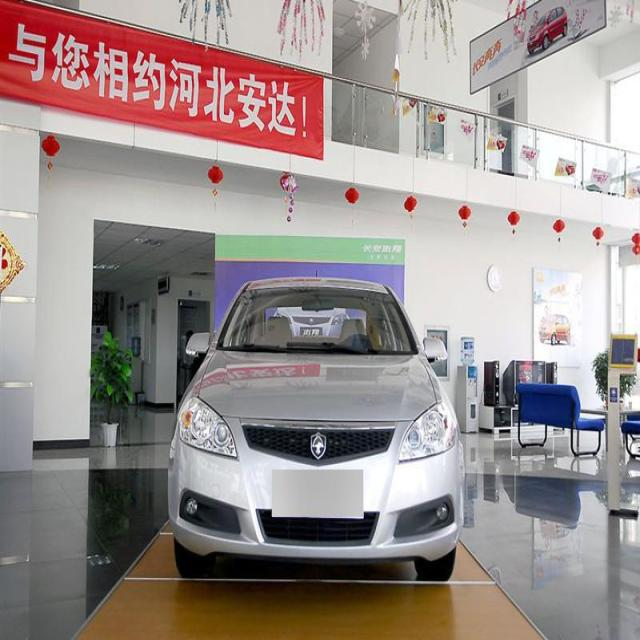front_bumper: (167, 413, 466, 564)
front_glass: (218, 289, 418, 356)
front_left_side_light: (396, 399, 458, 464)
front_left_side_mirror: (422, 333, 448, 363)
front_right_side_light: (177, 394, 239, 458)
front_right_side_mirror: (185, 330, 210, 359)
